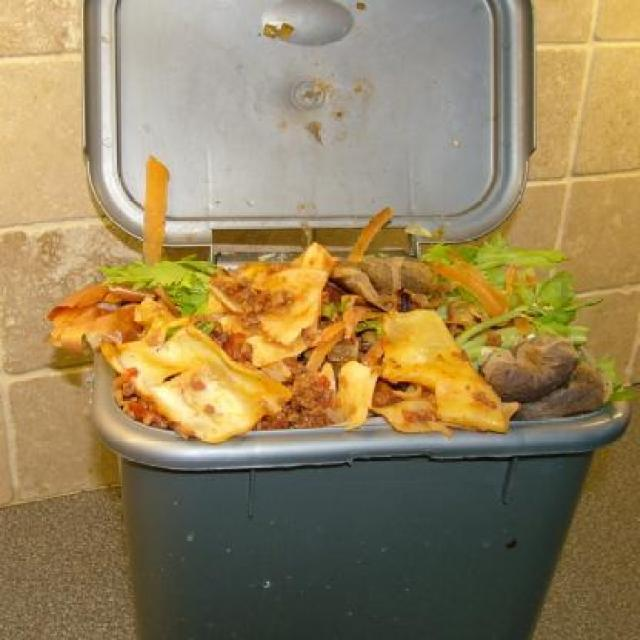garbage: (123, 162, 624, 423), (60, 282, 123, 363)
